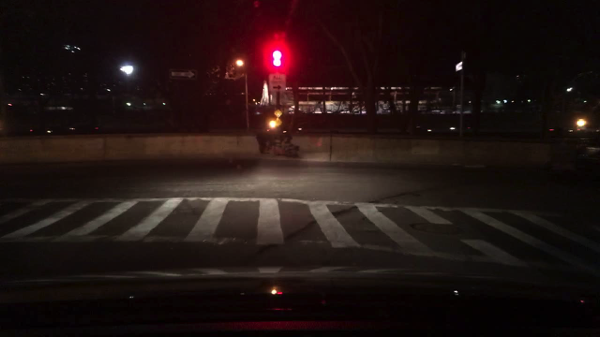car: (575, 137, 599, 175), (416, 124, 472, 134), (70, 125, 103, 134), (46, 127, 71, 137), (543, 126, 563, 138), (28, 127, 46, 137)
traffic light: (272, 46, 282, 69)
traffic sign: (269, 74, 284, 92), (169, 70, 196, 78), (273, 110, 282, 118), (274, 119, 282, 128)
